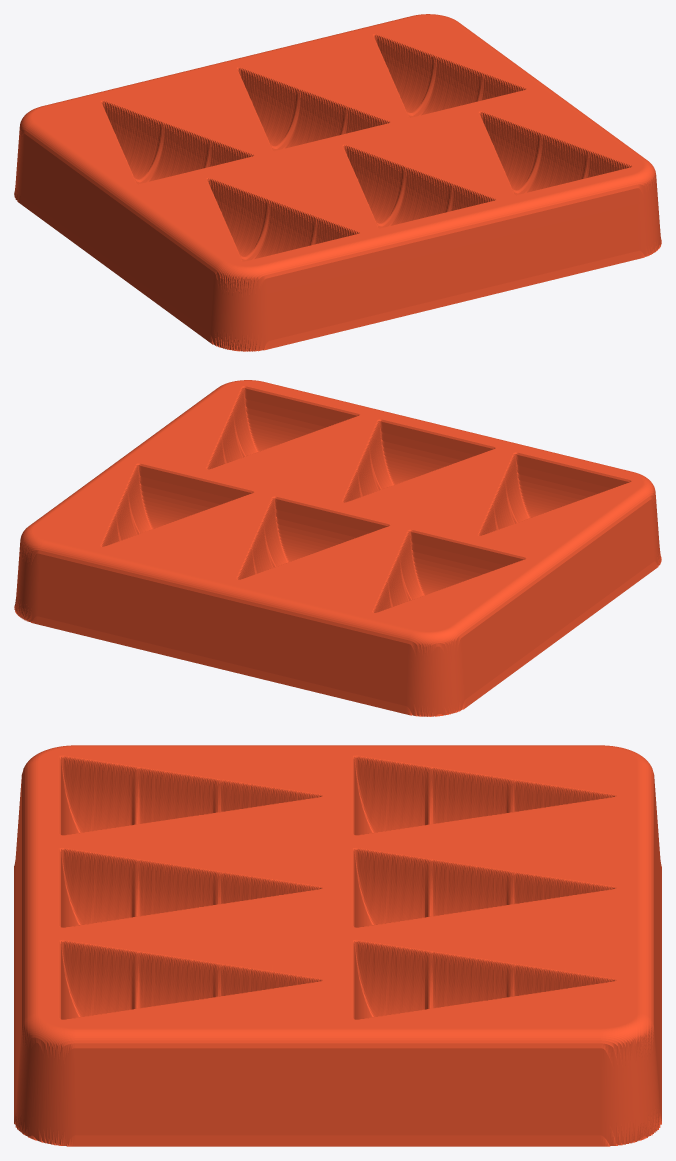
Rendered from mold.glb.
3 renders of one model, top to bottom at view 1: azimuth 30°, elevation 25°; view 2: azimuth 150°, elevation 25°; view 3: azimuth 270°, elevation 25°, orthographic. The views are drawn at different scales.
Parts seen in each view (by area): view 1: geometry_0; view 2: geometry_0; view 3: geometry_0.
Boxes of the visible parts, bbox=[...] form: geometry_0: bbox=[14, 14, 661, 351]; geometry_0: bbox=[14, 380, 661, 716]; geometry_0: bbox=[14, 745, 661, 1146].
Bounding box in the file's own units: 0.1054 × 0.0175 × 0.0955.
